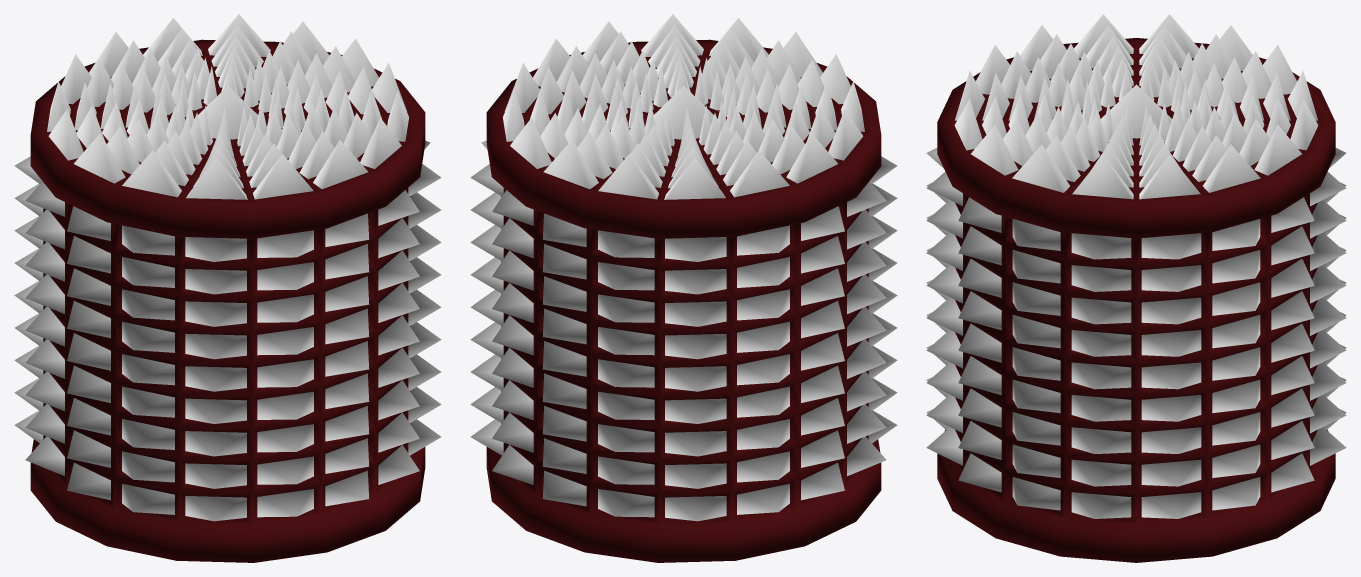
File: saw.glb
3 views of the same model, side by side, from view 1: azimuth 30°, elevation 25°; view 2: azimuth 150°, elevation 25°; view 3: azimuth 270°, elevation 25° (orthographic).
Visible parts, largest first — view 1: spikes; view 2: spikes; view 3: spikes.
Boxes of the visible parts, left/top/right/bottom form: spikes: left=14, top=14, right=441, bottom=562; spikes: left=470, top=14, right=897, bottom=562; spikes: left=926, top=14, right=1346, bottom=562.
Bounding box in the file's own units: 1.96 × 2.03 × 1.96.
